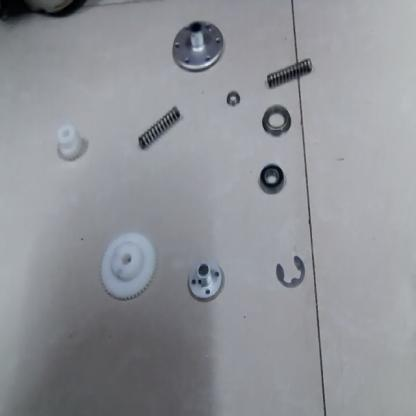FOD: (96, 229, 159, 303), (169, 18, 226, 73), (182, 255, 226, 307), (134, 106, 182, 152), (264, 54, 314, 91), (270, 249, 311, 290), (56, 120, 84, 162), (260, 103, 294, 135), (258, 163, 286, 199), (226, 87, 239, 109)
